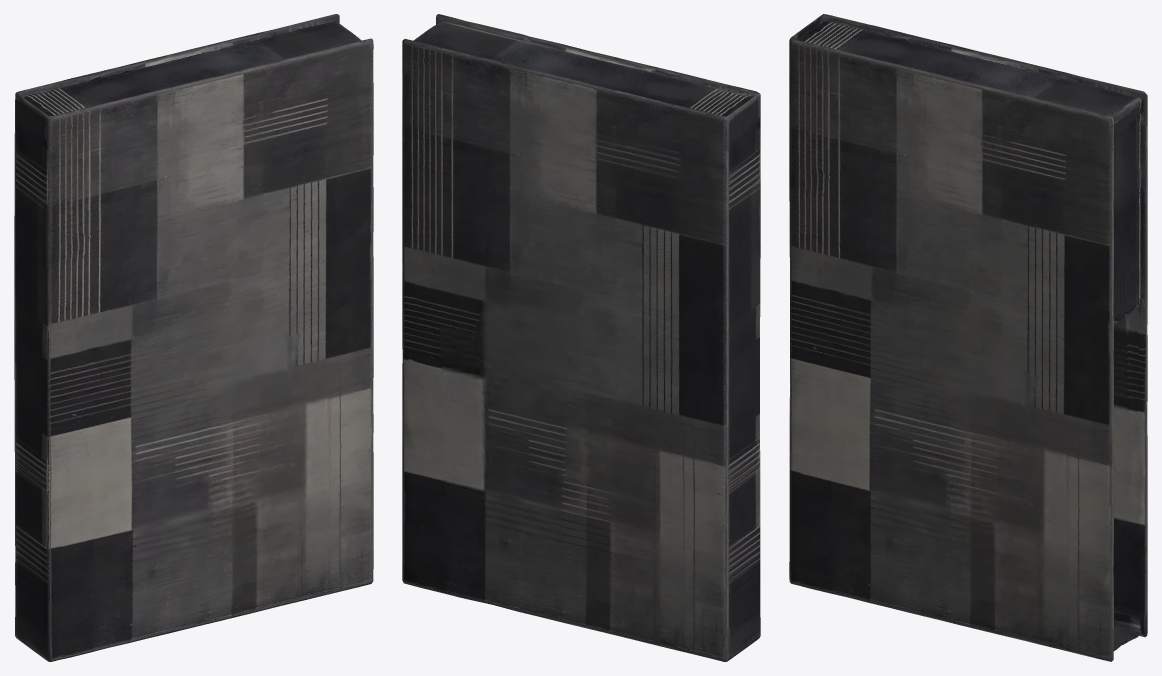
Rendered from Study Area Rug.glb.
3 renders of one model, left to right at view 1: azimuth 30°, elevation 25°; view 2: azimuth 150°, elevation 25°; view 3: azimuth 330°, elevation 25°, orthographic.
Visible parts, largest first — view 1: Mesh_0.001; view 2: Mesh_0.001; view 3: Mesh_0.001.
Boxes of the visible parts, box(x1,y1,x2,y2) form: Mesh_0.001: box(14, 14, 373, 661); Mesh_0.001: box(402, 14, 760, 661); Mesh_0.001: box(789, 14, 1147, 661).
Bounding box in the file's own units: 0.3746 × 0.6 × 0.0727.
Materials: 1 (1 with a texture image).
